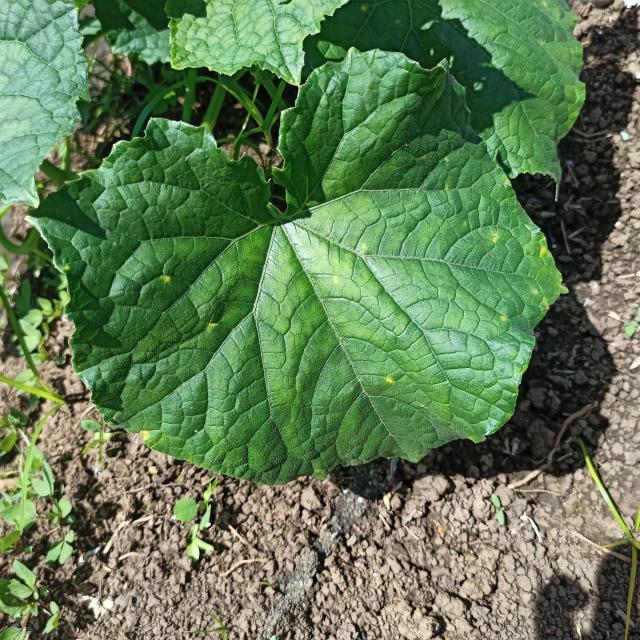disease_cucumber: (538, 238, 552, 256), (141, 429, 155, 438), (206, 322, 219, 329), (385, 376, 395, 384), (162, 274, 170, 282), (492, 235, 500, 242), (333, 277, 339, 283), (64, 264, 70, 270), (361, 244, 366, 249), (501, 316, 506, 320), (506, 178, 510, 183), (445, 187, 449, 190)
